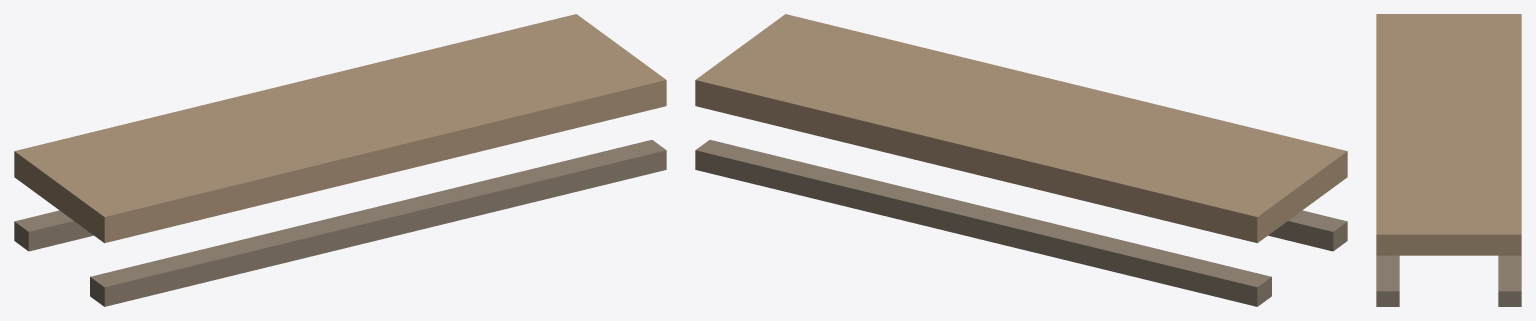
File: bridge_arc.glb
3 renders of one model, left to right at view 1: azimuth 30°, elevation 25°; view 2: azimuth 150°, elevation 25°; view 3: azimuth 270°, elevation 25°, orthographic. The views are drawn at different scales.
Visible parts, largest first — view 1: world; view 2: world; view 3: world.
Part boxes in pixels (x1,y1,x2,y2): world: (14,14,666,306); world: (695,14,1347,306); world: (1376,14,1521,306).
Bounding box in the file's own units: 3.6 × 0.55 × 1.
